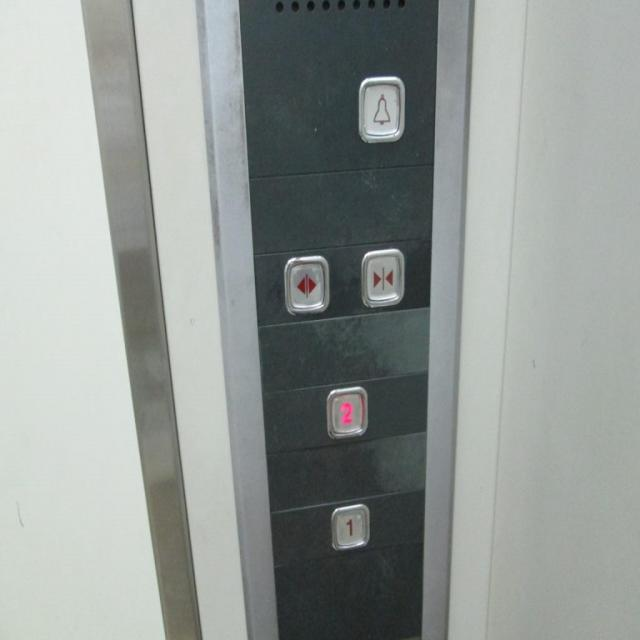1: (328, 500, 371, 552)
2: (324, 383, 368, 440)
alarm: (358, 74, 404, 144)
close: (361, 247, 405, 310)
open: (283, 254, 331, 318)
